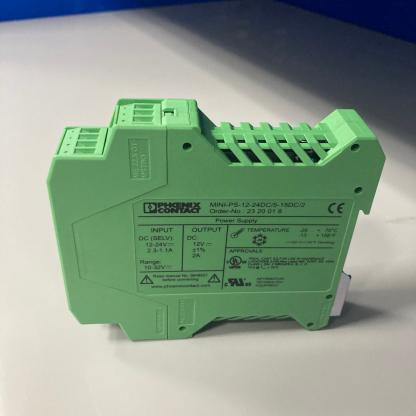SP0000011: (30, 72, 400, 369)
